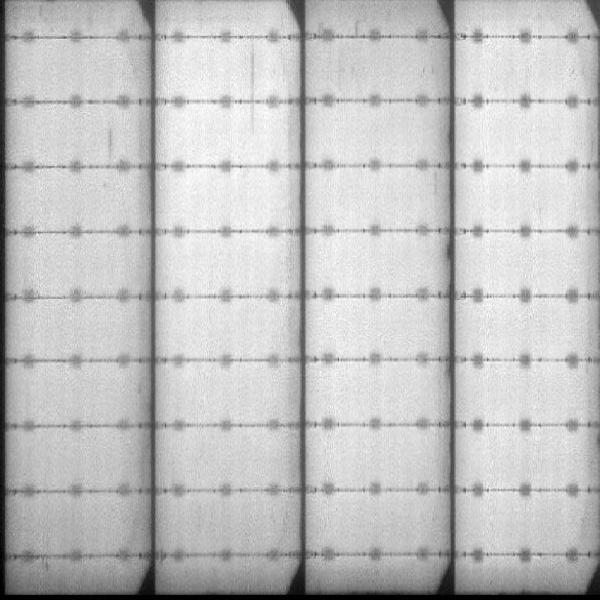scratch: (249, 34, 257, 134), (104, 122, 116, 163)
